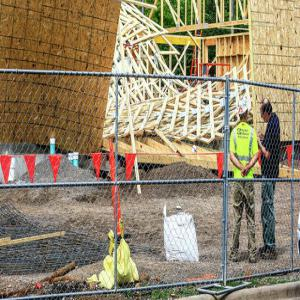none: (260, 99, 273, 123)
white: (238, 98, 249, 122)
